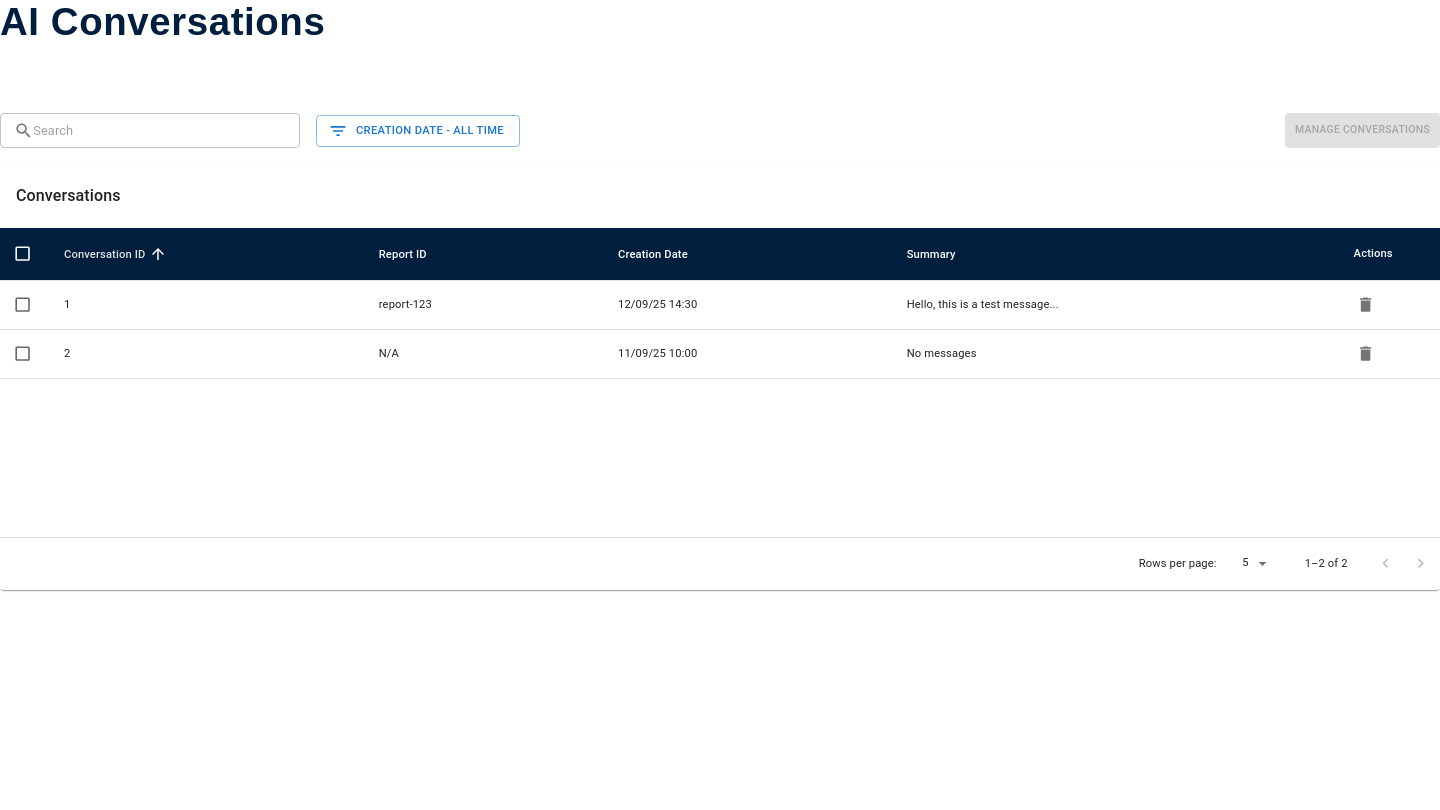
Test: ConversationsPage Component › opens conversation history dialog on row click
Click the text "1" at (205, 305), box [48, 280, 363, 329]
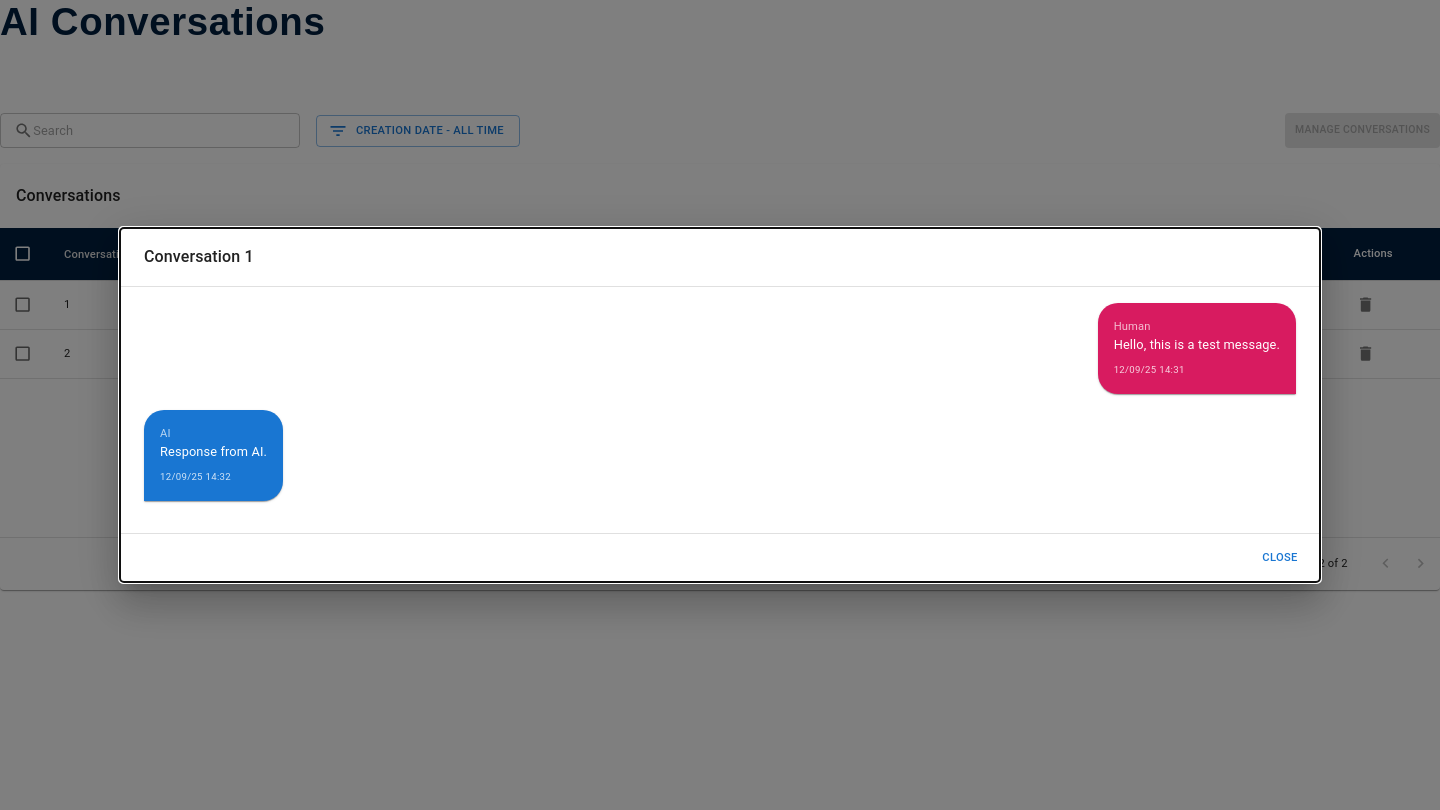
Expected: the text "Hello, this is a test message." is shown, [1114, 335, 1280, 354]
Expected: the text "Response from AI." is shown, [160, 442, 267, 461]
